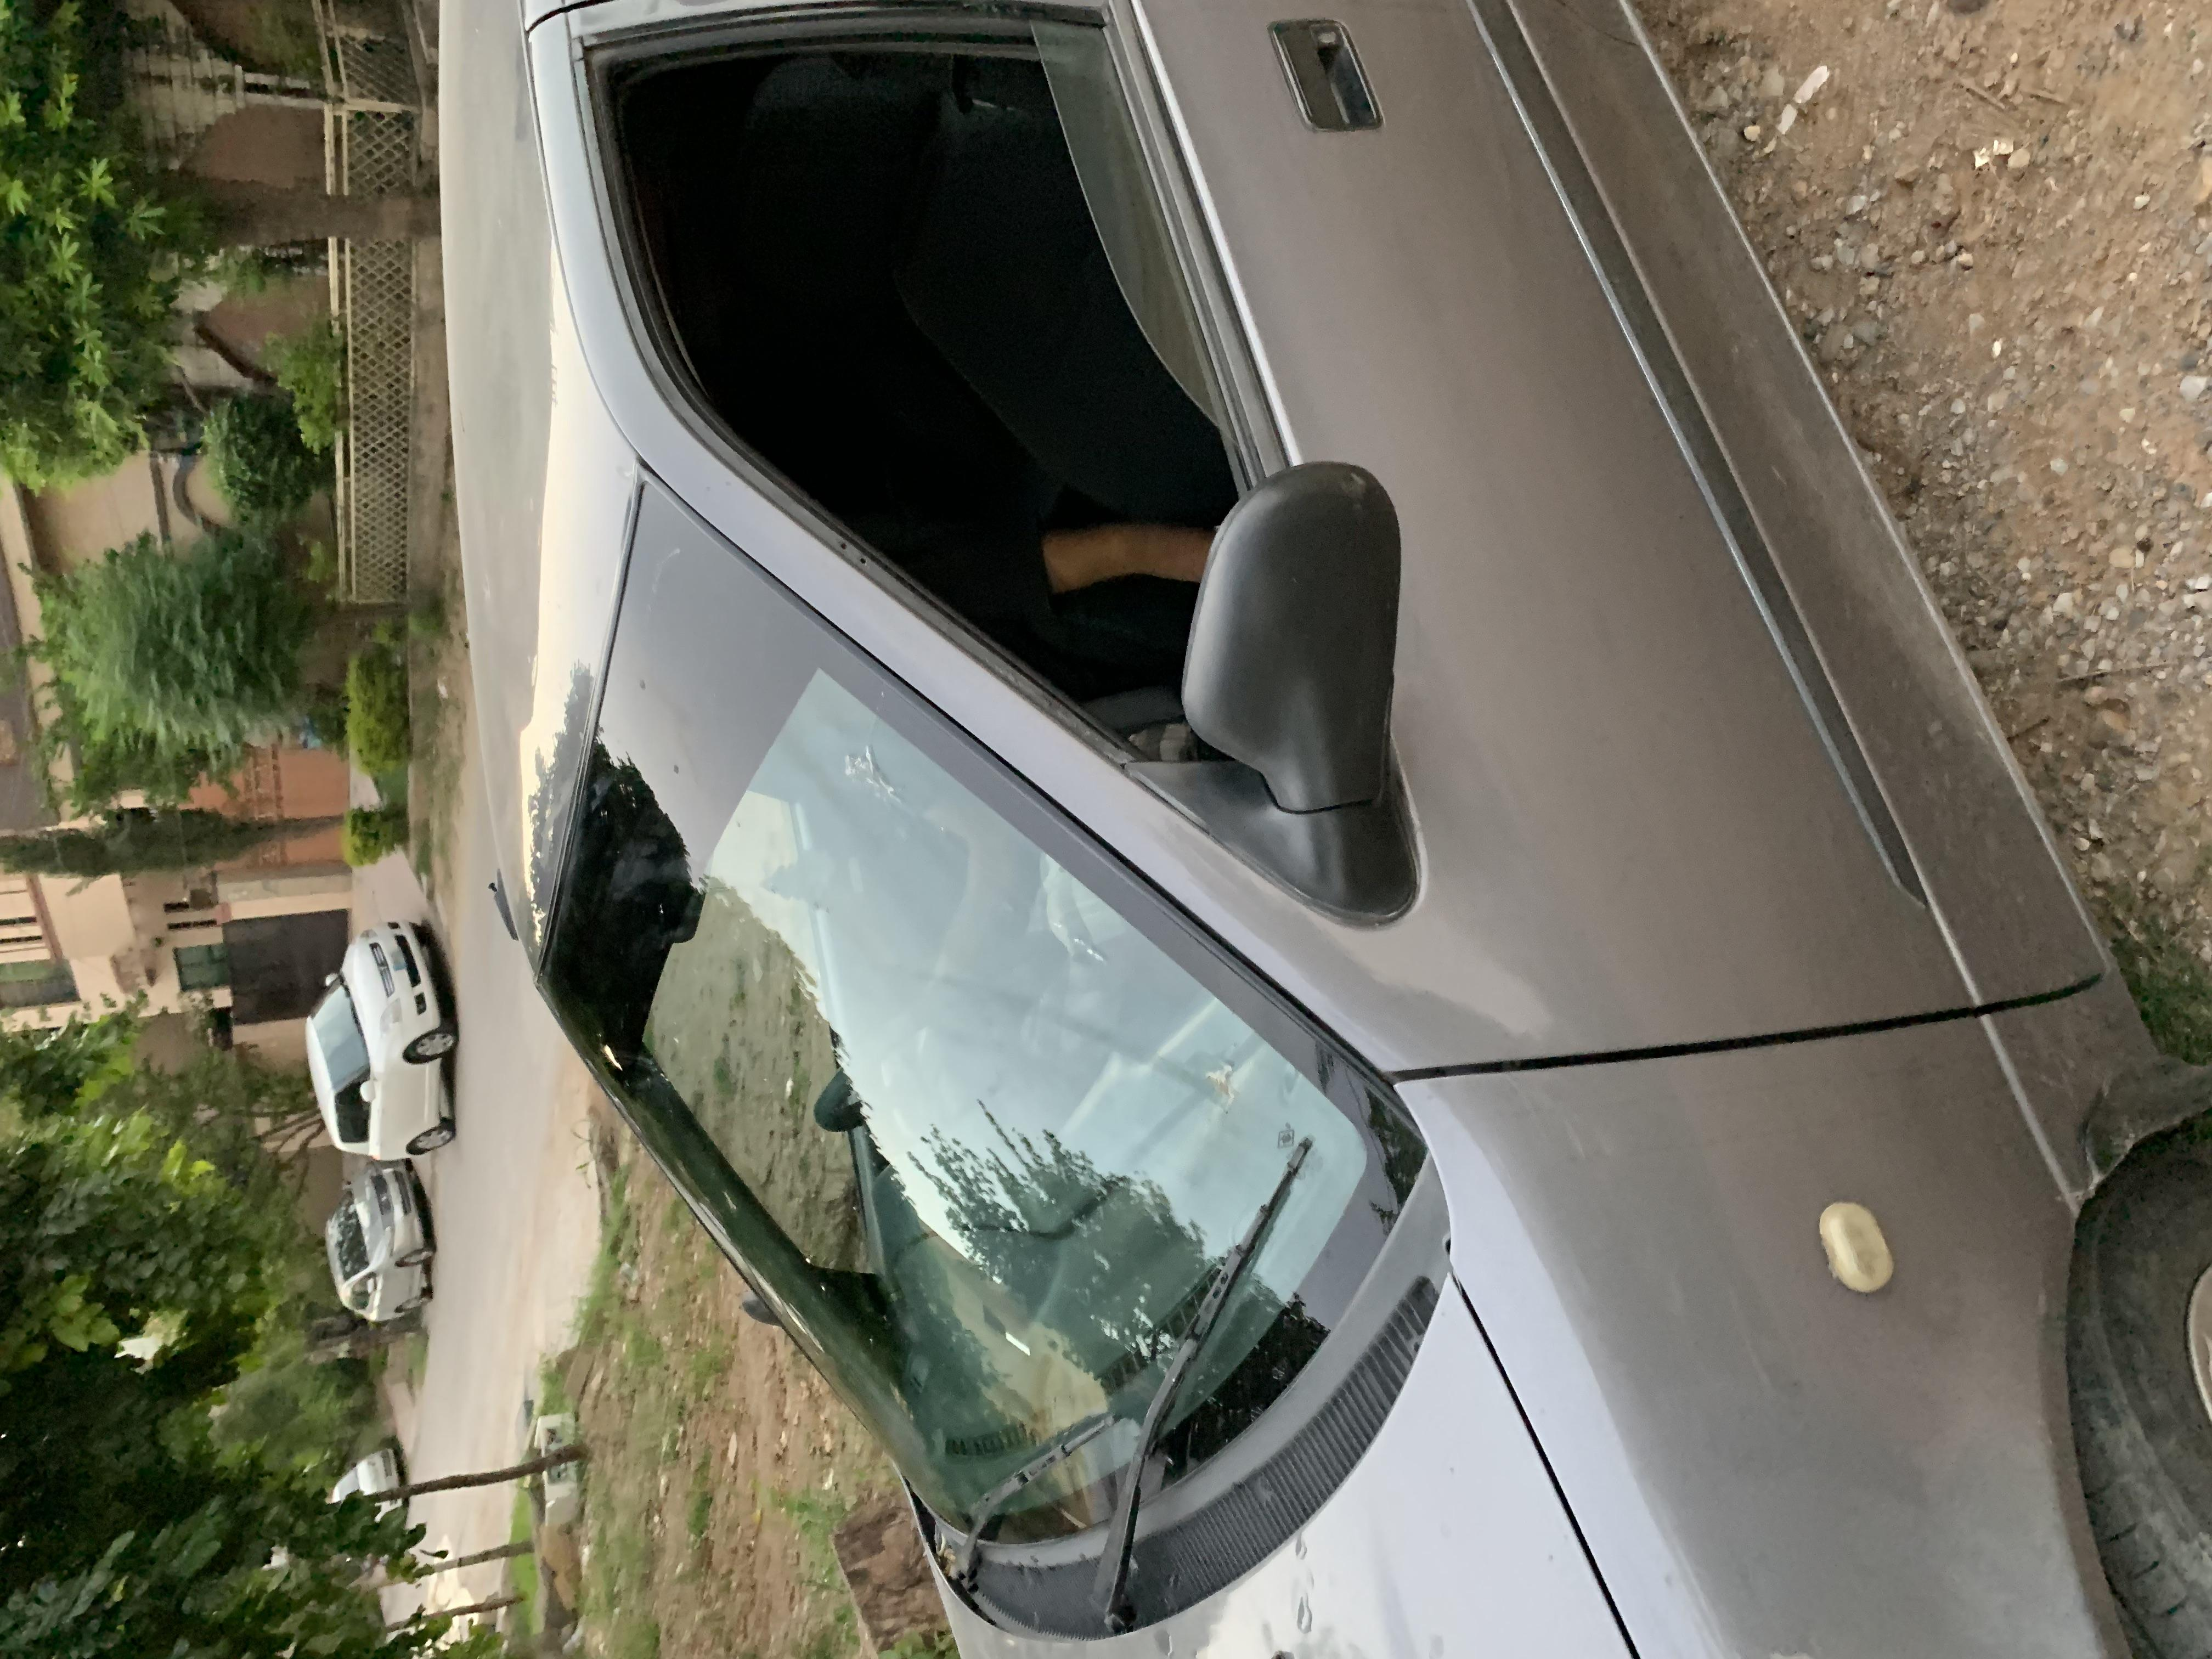windshield: (68, 396, 1611, 1091)
